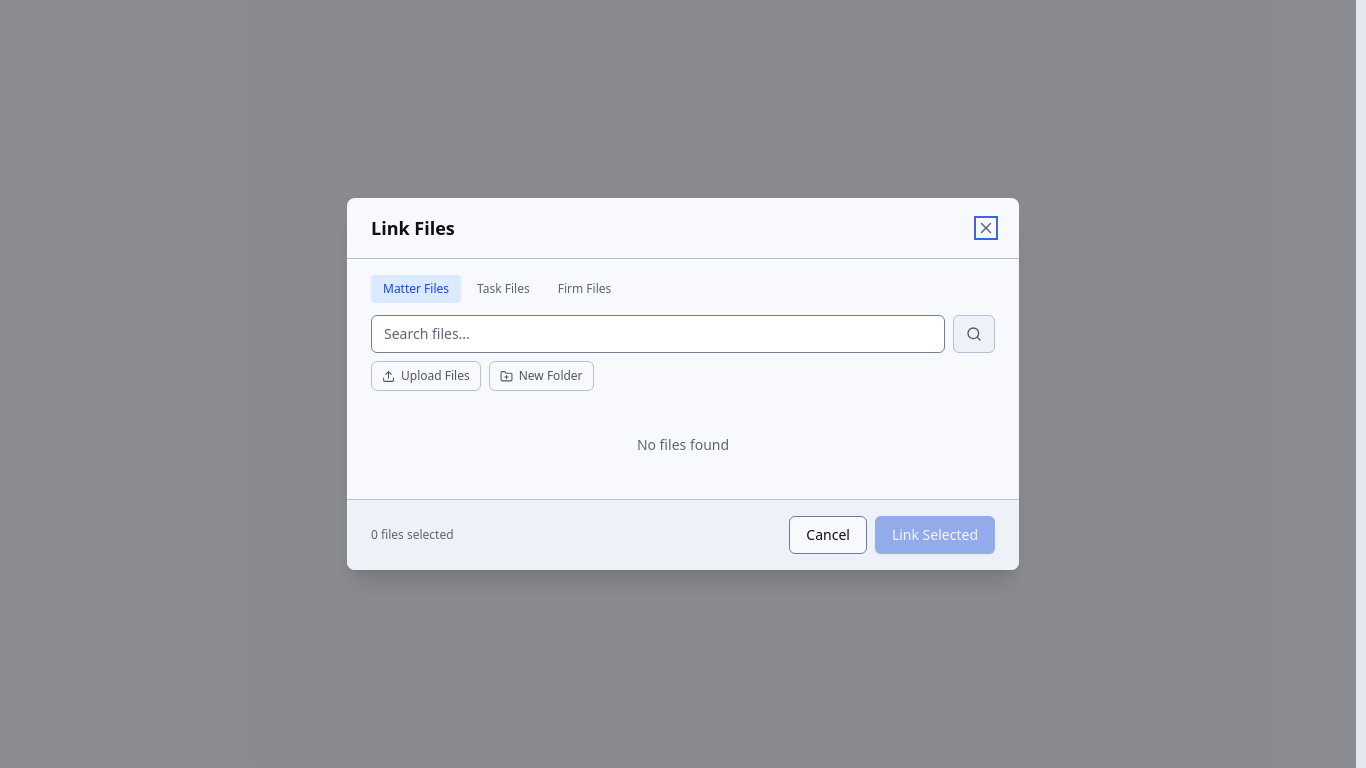
it: FilePickerModal task list › shows the no-tasks message when the matter genuinely has none
Click the button "Task Files" at (503,289), box [465,275,542,303]
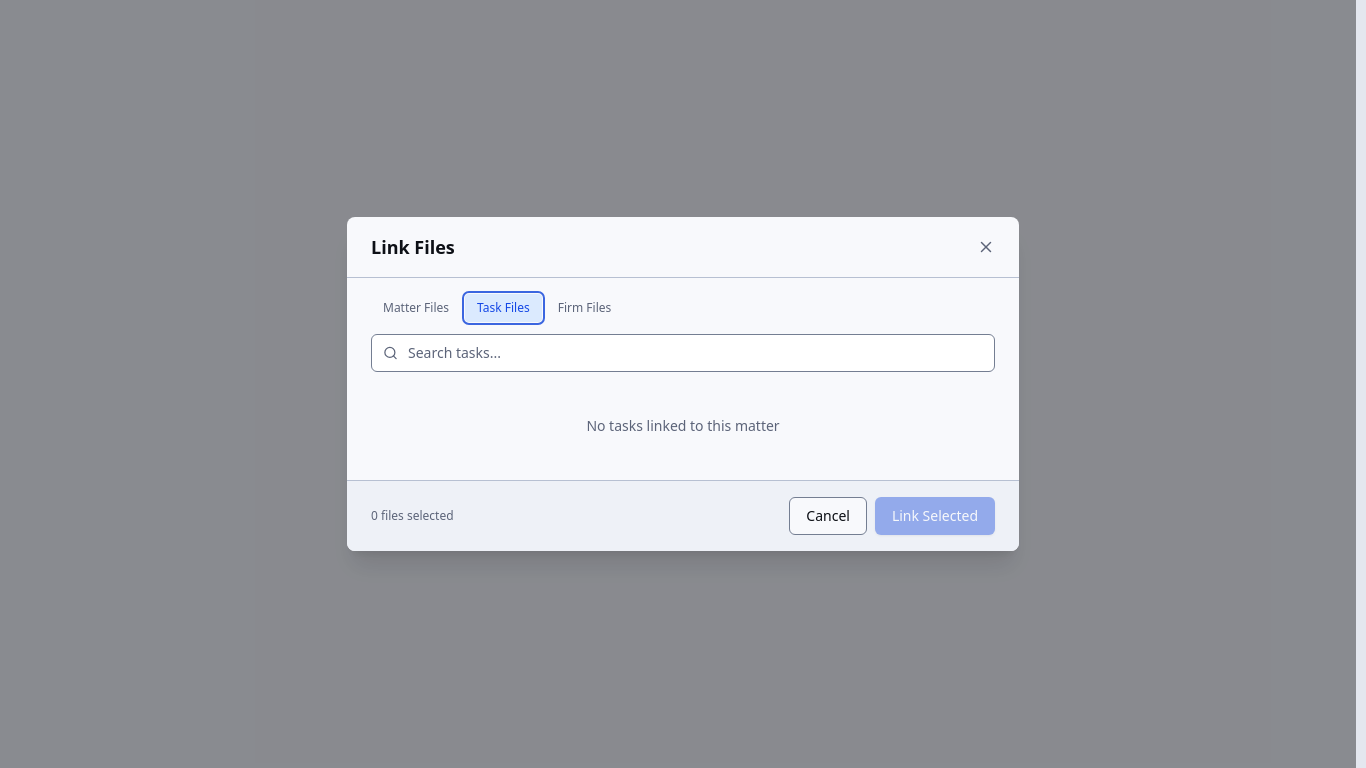
Expected: the text "No tasks linked to this matter" is shown, [586,416,780,435]
